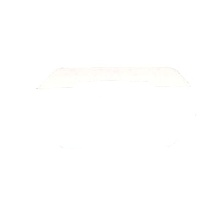foam_box: (8, 59, 216, 156)
